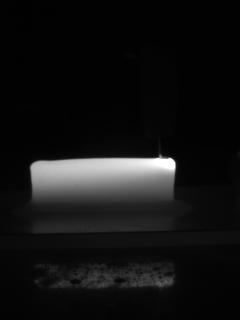tip_wire_left: (145, 133, 162, 159)
tip_wire_right: (159, 133, 173, 159)
